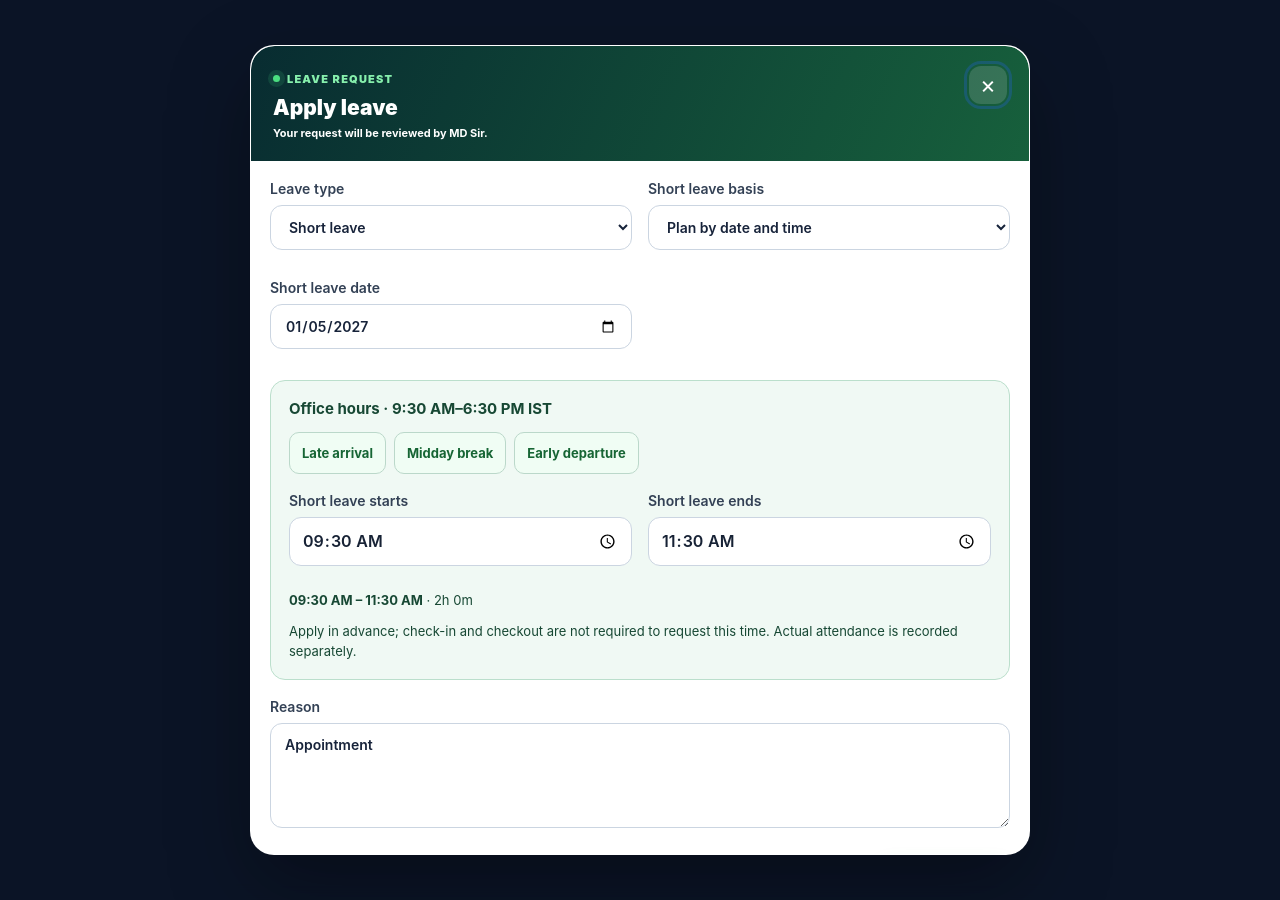
Scenario: early departure remains planned after completed attendance loads
Click the button "Early departure" at [576, 453], box [514,432,639,474]
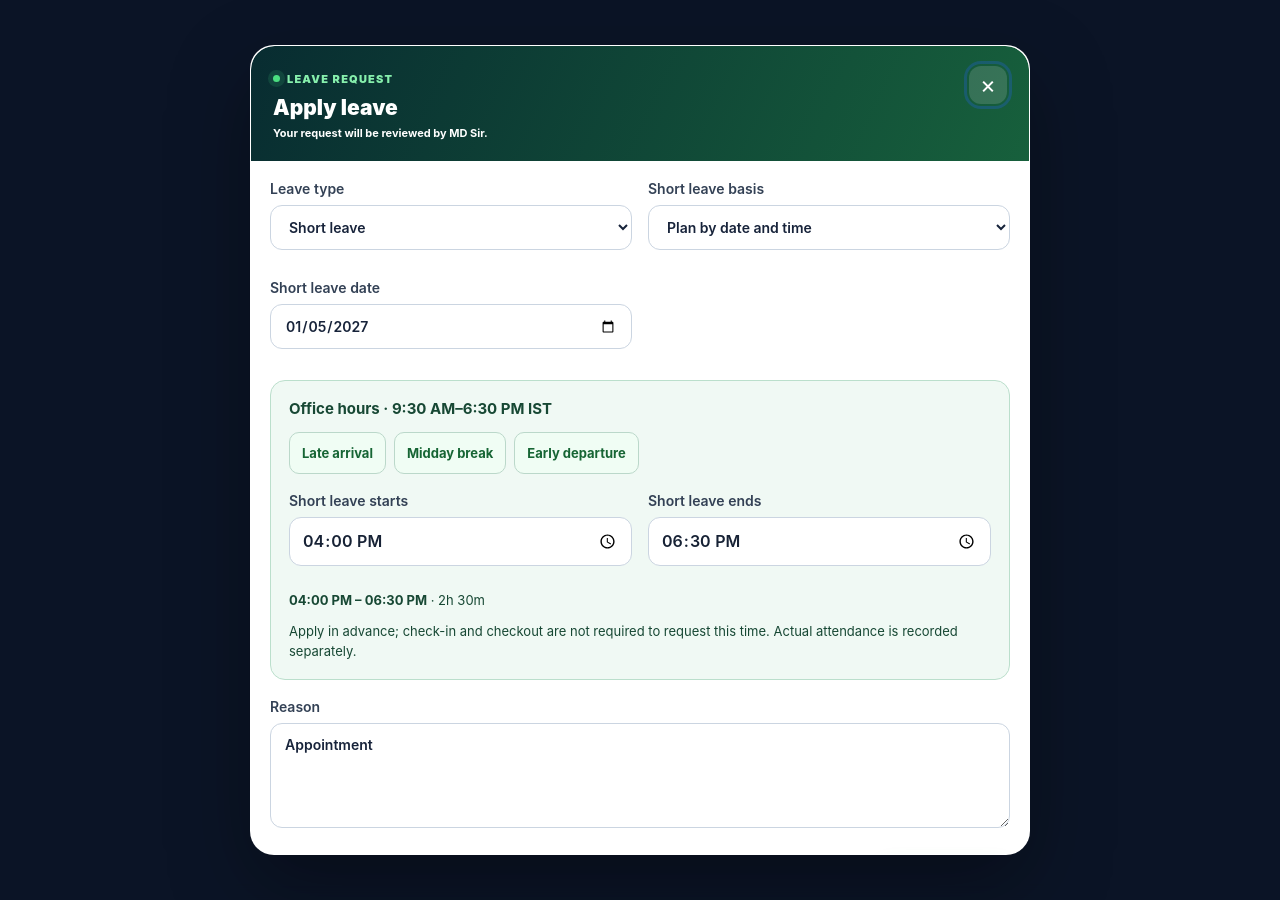
Check: the dropdown labelled "Short leave basis" shows "Plan by date and time", box [648,205,1010,250]
Check: the time field labelled "Short leave starts" holds "16:00", box [289,517,632,566]
Check: the time field labelled "Short leave ends" holds "18:30", box [648,517,991,566]
